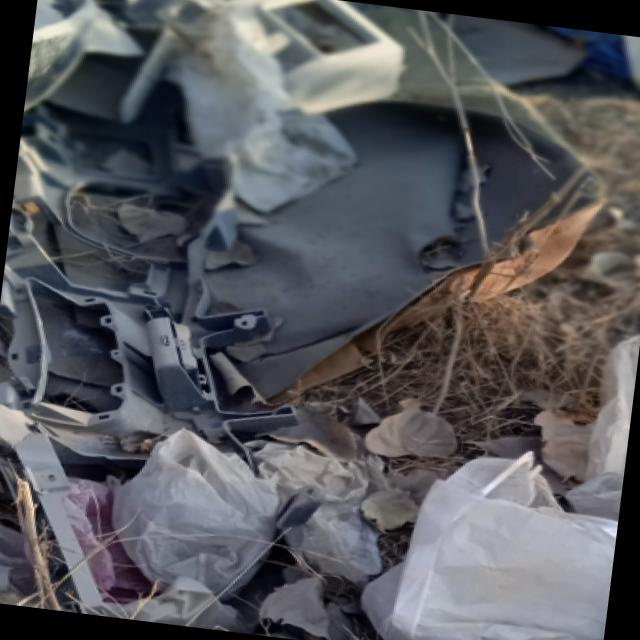general: (366, 431, 625, 640), (104, 420, 282, 602)
